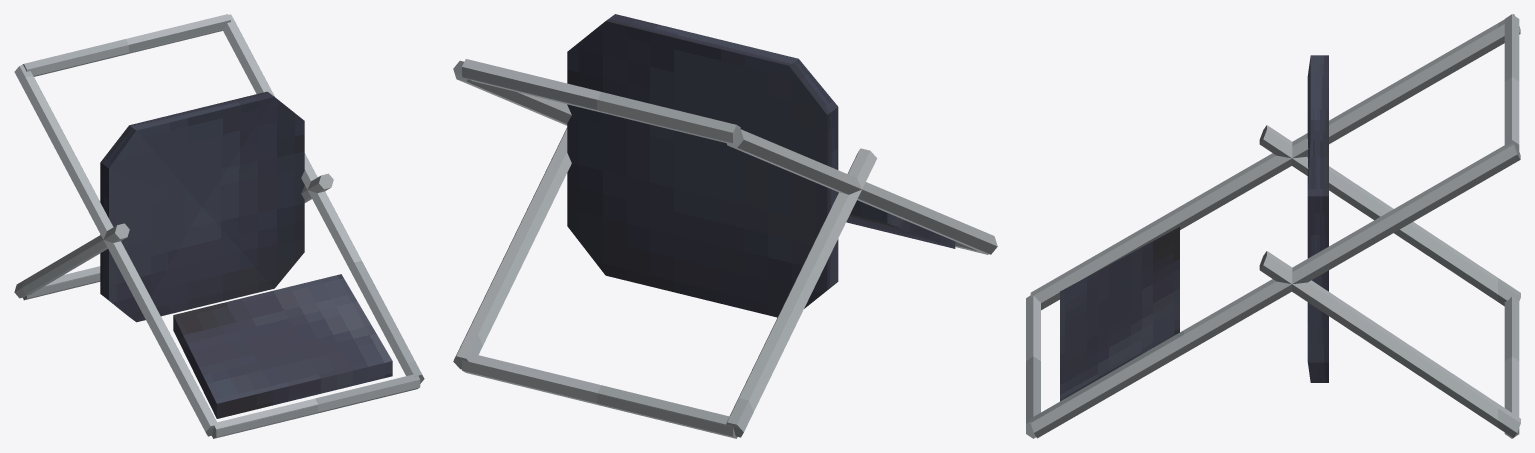
The model's file is pz_chair_seating_indoor_01_folding_fidelity_r1.obj.
3 views of the same model, side by side, from view 1: azimuth 30°, elevation 25°; view 2: azimuth 150°, elevation 25°; view 3: azimuth 270°, elevation 25° (orthographic). The views are drawn at different scales.
Visible parts, largest first — view 1: seat, frame, back; view 2: seat, frame, back; view 3: frame, back, seat.
Part boxes in pixels (x1=…): seat: x1=100, y1=91, x2=304, y2=322; frame: x1=14, y1=14, x2=424, y2=438; back: x1=173, y1=274, x2=392, y2=418; seat: x1=567, y1=14, x2=838, y2=317; frame: x1=453, y1=59, x2=997, y2=438; back: x1=846, y1=200, x2=955, y2=248; frame: x1=1026, y1=14, x2=1520, y2=438; back: x1=1060, y1=227, x2=1179, y2=401; seat: x1=1307, y1=55, x2=1328, y2=382.
Bounding box in the file's own units: 0.5561 × 0.5741 × 0.8609.
Materials: 1 (1 with a texture image).
